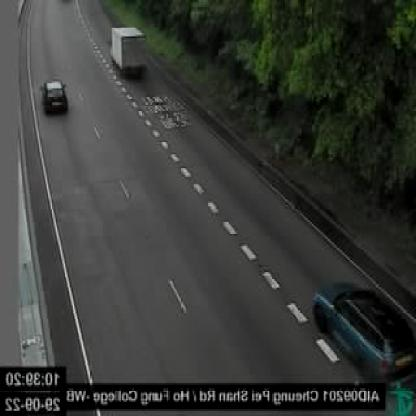Car: (304, 277, 416, 390), (39, 78, 71, 116)
Truck: (108, 23, 152, 83)
